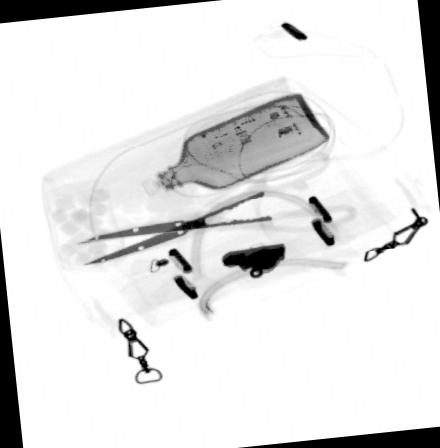Scissors: (73, 151, 357, 265)
